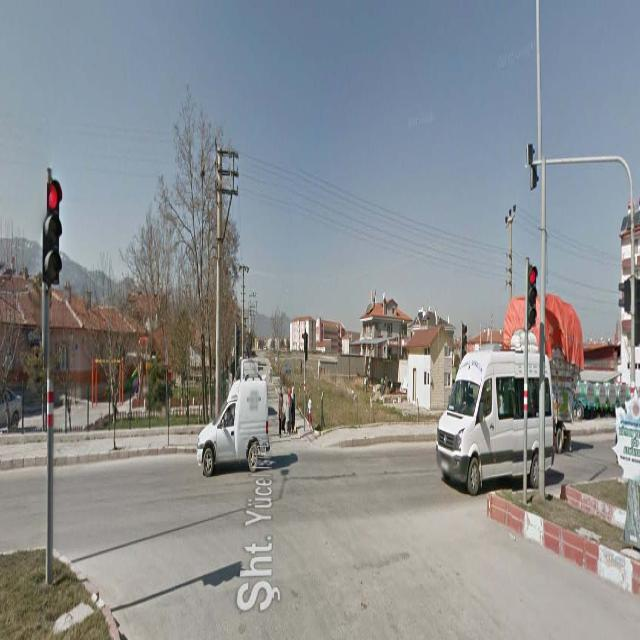kirmizi: (43, 180, 62, 292), (526, 264, 538, 326)
